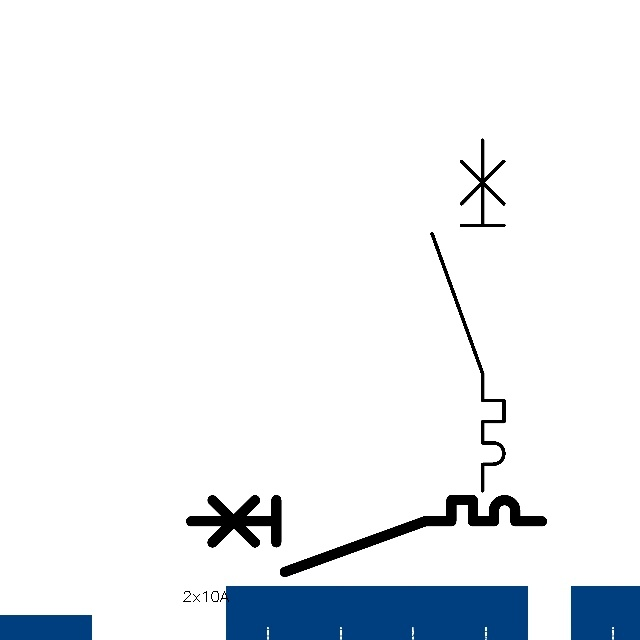interruptor_termomagnetico: (423, 131, 513, 500), (182, 491, 551, 581)
